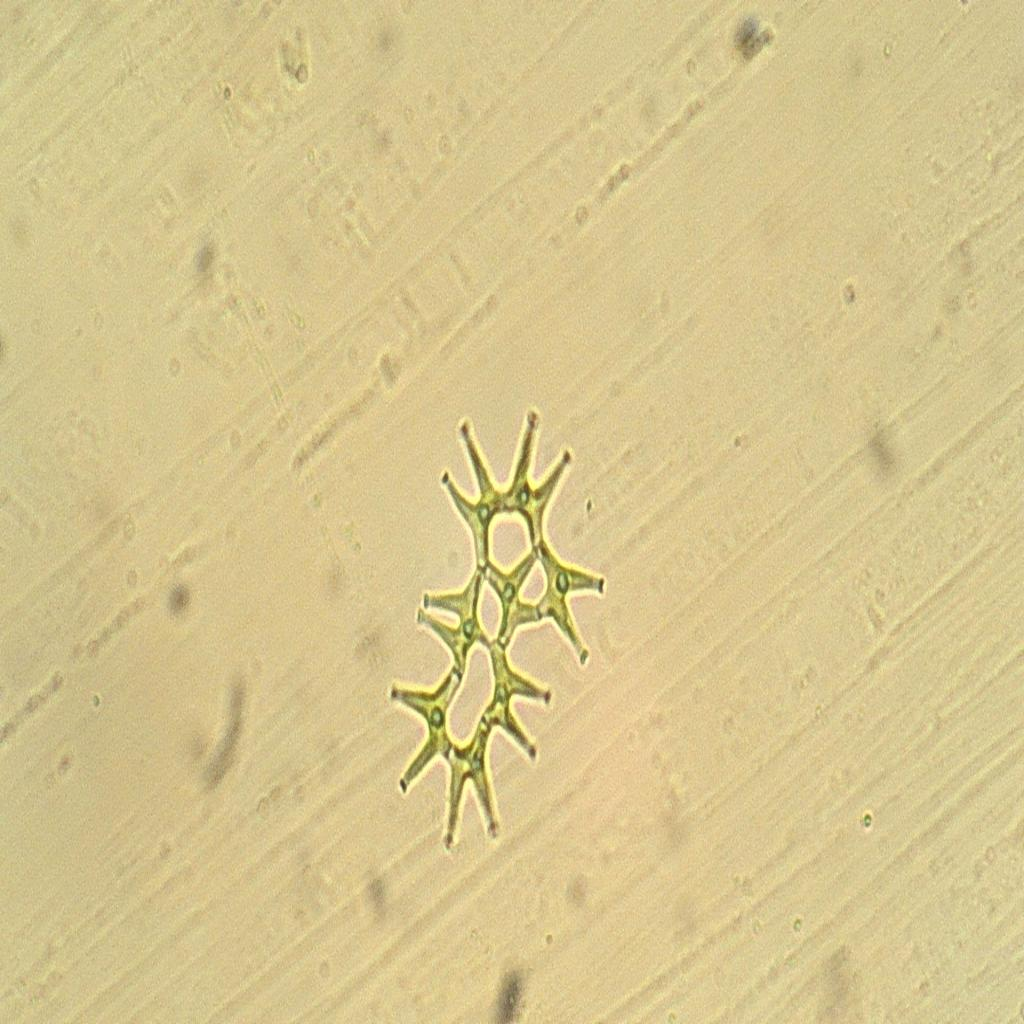Pediastrum_CFI: (382, 380, 617, 868)
